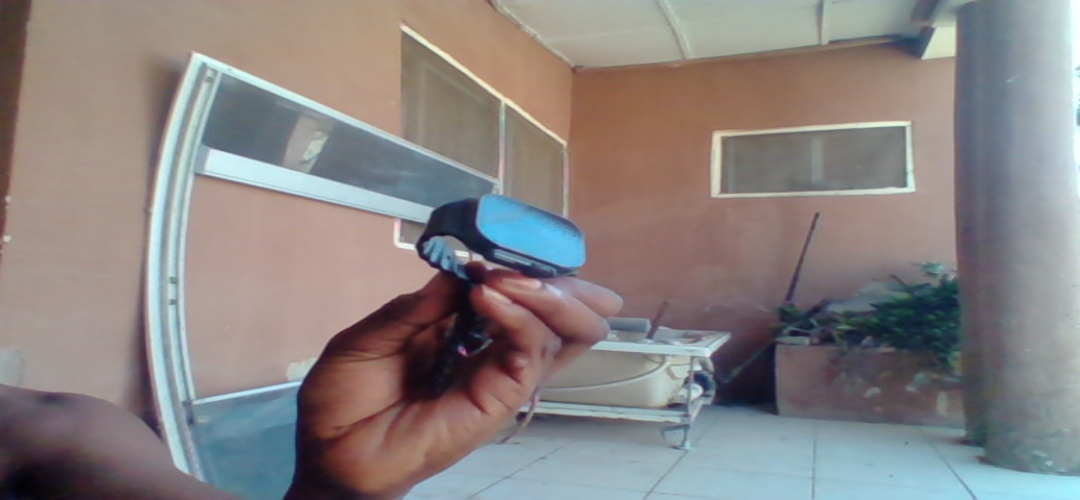smart_watch: (416, 191, 595, 279)
